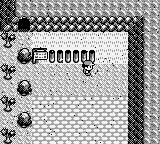leer: (33, 48, 47, 63)
main: (82, 61, 95, 76)
mo: (1, 97, 16, 112), (1, 65, 16, 80), (1, 32, 16, 47), (1, 129, 16, 143)
no-caminable: (1, 0, 160, 143), (49, 50, 95, 63), (17, 112, 32, 128), (17, 80, 32, 95), (17, 48, 31, 64)
puerta: (18, 18, 30, 32)
